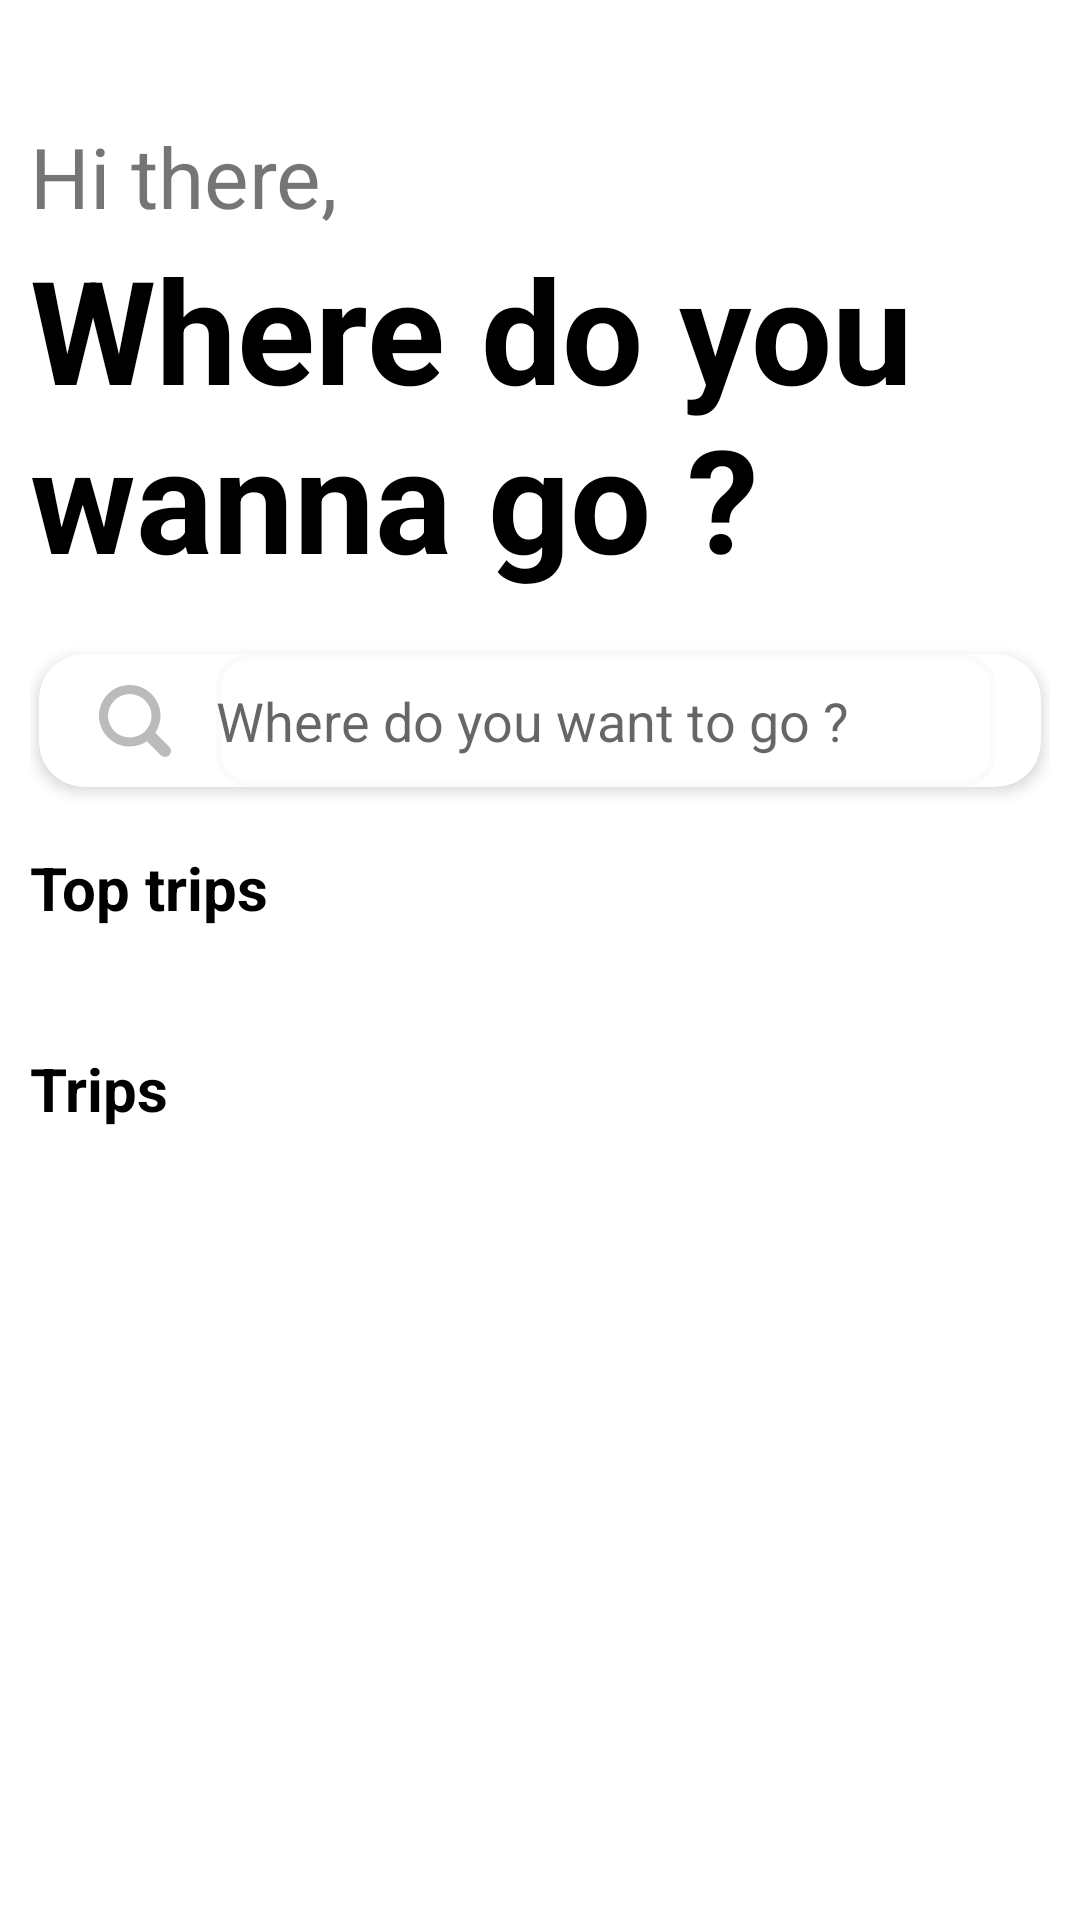

Named icons in this screenshot (1080px×1920px) and their bounding boxes, bbox=(x1, y1, x2, y2):
search: bbox=(99, 685, 171, 757)
